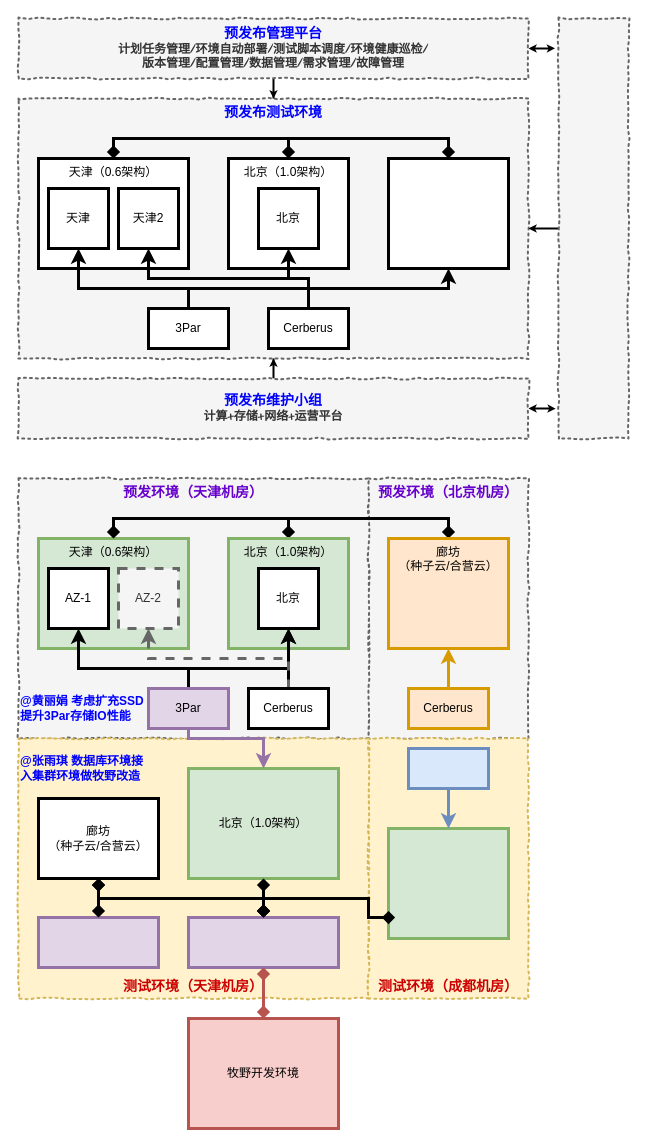
This 646x1147 diagram has some shape labels left out. The shapes that lost their labels are listed below. From the top down, each one's centre as x and y in pixels, then its label:
[448,213]: 赣州 （种子云/合营云）
[593,228]: 预发布 流程规范
[448,768]: 成都存储
[448,883]: 成都（0.6架构）
[98,942]: UCO-A （合营云）
[263,942]: UCO-B （含牧野模块）
